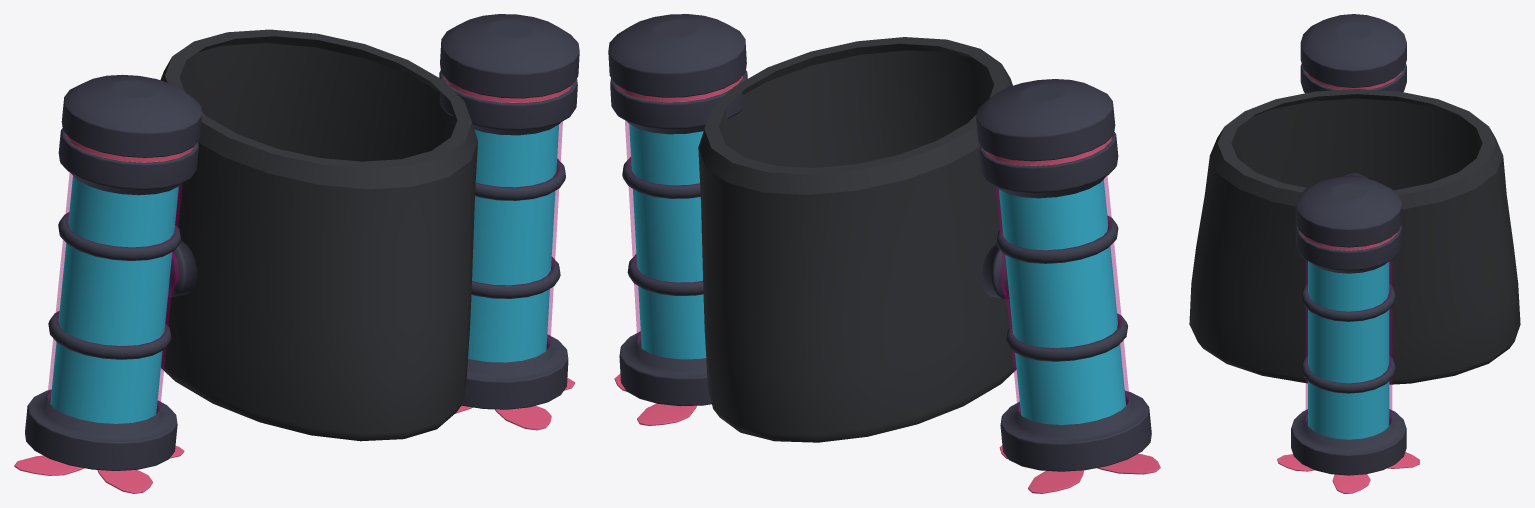
File: dash_r_grp_FBX.fbx
3 views of the same model, side by side, from view 1: azimuth 30°, elevation 25°; view 2: azimuth 150°, elevation 25°; view 3: azimuth 270°, elevation 25° (orthographic). The views are drawn at different scales.
Visible parts, largest first — view 1: dashvelcro_c_geo, structure_c_geo (×2), glass_c_geo (×2), water_c_geo (×2), propellers_c_geo (×2); view 2: dashvelcro_c_geo, structure_c_geo (×2), glass_c_geo (×2), water_c_geo (×2), propellers_c_geo (×2); view 3: dashvelcro_c_geo, structure_c_geo (×2), glass_c_geo, water_c_geo, propellers_c_geo.
Part boxes in pixels (x1,y1,x2,y2): dashvelcro_c_geo: (160, 29, 477, 441); structure_c_geo (×2): (25, 14, 579, 470); glass_c_geo (×2): (48, 121, 562, 423); water_c_geo (×2): (50, 124, 558, 423); propellers_c_geo (×2): (14, 378, 575, 493); dashvelcro_c_geo: (698, 37, 1016, 442); structure_c_geo (×2): (608, 14, 1151, 471); glass_c_geo (×2): (625, 120, 1128, 424); water_c_geo (×2): (629, 124, 1126, 424); propellers_c_geo (×2): (614, 374, 1160, 493); dashvelcro_c_geo: (1189, 89, 1520, 384); structure_c_geo (×2): (1291, 14, 1406, 475); glass_c_geo: (1306, 260, 1391, 439); water_c_geo: (1308, 261, 1389, 439); propellers_c_geo: (1277, 452, 1419, 493).
Size of the model in its own units: 24.22 by 16.71 by 16.52.
